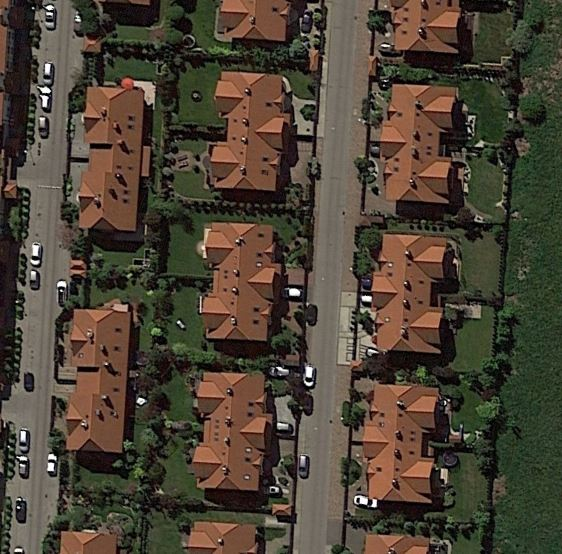family house: (381, 1, 467, 56), (214, 1, 290, 48), (186, 517, 262, 554), (53, 525, 125, 554), (357, 531, 442, 553)
terrace house: (202, 66, 295, 199), (365, 229, 460, 356), (72, 80, 147, 239), (189, 219, 284, 343), (375, 79, 467, 206), (59, 303, 134, 455), (361, 377, 446, 506), (190, 366, 271, 494)
